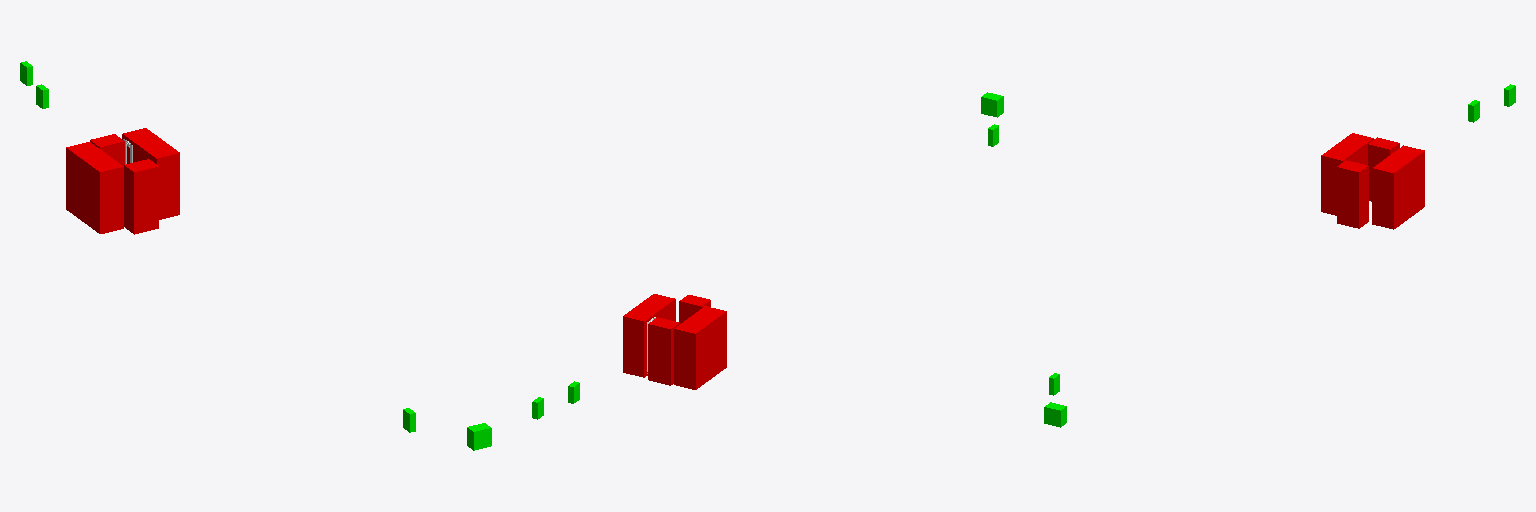
The robot description file, URDF, robot "Floor":
<?xml version="1.0"?>
<robot name="Floor">
    <link name="robot_base">
        <visual name="Floor_3">
            <origin rpy="1.57 3.141593 -3.141593" xyz="0.000000 0.000000 -0.5" />
            <geometry>
                <mesh filename="package://MASCEI/Auto_calibration/scripts/models/disposable_line/environment/environment_Floor_vis_2.obj" scale="2 2 2"/>
            </geometry>
            <material name="Floor_material">
                <color rgba="0.640000 0.640000 0.640000 1.0" />
            </material>
        </visual>
        <visual name="Bagging_Machine">
            <origin rpy="1.57 0.0 0.0" xyz="0 -15 0" />
            <geometry>
                <mesh filename="package://MASCEI/Auto_calibration/scripts/models/disposable_line/environment/container_final.obj" scale="0.02 0.02 0.02"/>
            </geometry>
            <material name="BaggingMachine_material">
                <color rgba="1.000000 1.000000 1.000000 1.0" />
            </material>
        </visual>
        <visual name="Robot_Base">
            <origin rpy="1.57 0.0 0.0" xyz="1.6 0.5 1" />
            <geometry>
                <mesh filename="package://MASCEI/Auto_calibration/scripts/models/disposable_line/environment/GP7_stander.obj" scale="0.02 0.02 0.02"/>
            </geometry>
            <material name="BaggingMachine_material">
                <color rgba="1.000000 1.000000 1.000000 1.0" />
            </material>
        </visual>
        <visual name="robot1_box1">
            <origin rpy="0 0 0" xyz="1.3 -10.1 0.58" />
            <geometry>
                <box size="0.3 0.2 0.3" /> <!-- Defines a box with 0.5m x 0.5m x 0.5m dimensions -->
            </geometry>
            <material name="Box_Material">
                <color rgba="0.0 1.0 0.0 1.0" /> <!-- Green color with full opacity -->
            </material>
        </visual>
        <visual name="robot1_box2">
            <origin rpy="0 0 0" xyz="0.7 -9.1 0.58" />
            <geometry>
                <box size="0.1 0.2 0.3" /> <!-- Defines a box with 0.5m x 0.5m x 0.5m dimensions -->
            </geometry>
            <material name="Box_Material">
                <color rgba="0.0 1.0 0.0 1.0" /> <!-- Green color with full opacity -->
            </material>
        </visual>
        <visual name="robot3_box1">
            <origin rpy="0 0 0" xyz="0.77 0.2 0.55" />
            <geometry>
                <box size="0.4 1.0 1.0" /> <!-- Defines a box with 0.5m x 0.5m x 0.5m dimensions -->
            </geometry>
            <material name="Box_Material_Collision">
                <color rgba="1.0 0.0 0.0 0.2" /> <!-- Green color with full opacity -->
            </material>
        </visual>
        <visual name="robot3_box2">
            <origin rpy="0 0 0" xyz="1.21 0.6 0.55" />
            <geometry>
                <box size="0.42 0.3 1.0" /> <!-- Defines a box with 0.5m x 0.5m x 0.5m dimensions -->
            </geometry>
            <material name="Box_Material_Collision">
                <color rgba="1.0 0.0 0.0 0.2" /> <!-- Green color with full opacity -->
            </material>
        </visual>
        <visual name="robot3_box3">
            <origin rpy="0 0 0" xyz="1.21 -0.4 0.55" />
            <geometry>
                <box size="0.42 0.3 1.0" /> <!-- Defines a box with 0.5m x 0.5m x 0.5m dimensions -->
            </geometry>
            <material name="Box_Material_Collision">
                <color rgba="1.0 0.0 0.0 0.2" /> <!-- Green color with full opacity -->
            </material>
        </visual>
        <visual name="robot3_box4">
            <origin rpy="0 0 0" xyz="1.72 0.2 0.55" />
            <geometry>
                <box size="0.4 1.0 1.0" /> <!-- Defines a box with 0.5m x 0.5m x 0.5m dimensions -->
            </geometry>
            <material name="Box_Material_Collision">
                <color rgba="1.0 0.0 0.0 0.2" /> <!-- Green color with full opacity -->
            </material>
        </visual>

        <visual name="robot4_box1">
            <origin rpy="0 0 0" xyz="1.5 3.0 0.72" />
            <geometry>
                <box size="0.1 0.2 0.3" /> <!-- Defines a box with 0.5m x 0.5m x 0.5m dimensions -->
            </geometry>
            <material name="Box_Material">
                <color rgba="0.0 1.0 0.0 1.0" /> <!-- Green color with full opacity -->
            </material>
        </visual>
        <visual name="robot4_box2">
            <origin rpy="0 0 0" xyz="1.7 3.8 0.72" />
            <geometry>
                <box size="0.1 0.2 0.3" /> <!-- Defines a box with 0.5m x 0.5m x 0.5m dimensions -->
            </geometry>
            <material name="Box_Material">
                <color rgba="0.0 1.0 0.0 1.0" /> <!-- Green color with full opacity -->
            </material>
        </visual>
    </link>
</robot>

--- Render facts (derived) ---
The picture shows the robot from 3 angles, left to right: view 1: azimuth 30°, elevation 25°; view 2: azimuth 150°, elevation 25°; view 3: azimuth 330°, elevation 25°; orthographic projection.
Robot: Floor — 1 links, 0 joints (none); root link robot_base; default pose: all joints at 0.
Visible links, largest first — view 1: robot_base; view 2: robot_base; view 3: robot_base.
Boxes of the visible links, x1=… form: robot_base: x1=20, y1=61, x2=491, y2=450; robot_base: x1=532, y1=92, x2=1003, y2=419; robot_base: x1=1044, y1=84, x2=1515, y2=427.
Size in the robot's own frame: 1.35 by 14.1 by 1 metres.
Meshes: 3 distinct files referenced, 1 mesh visuals loaded (1 OBJ); not drawn: 2 (reference not matched to a file when rendering).
